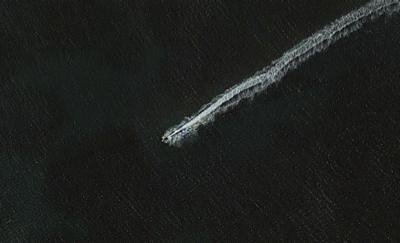Ships: (157, 115, 181, 158)
